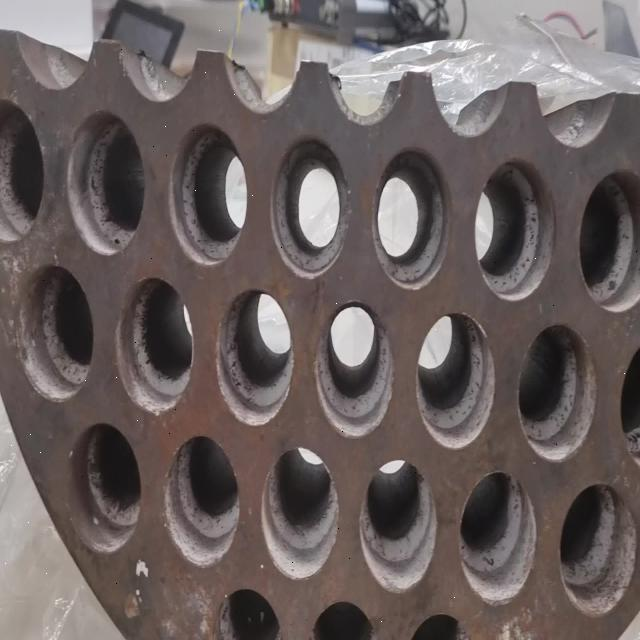Hole: (270, 134, 352, 280), (474, 158, 556, 302), (168, 121, 248, 267), (66, 111, 146, 257), (215, 287, 295, 427), (518, 322, 598, 462), (314, 299, 394, 439), (416, 311, 496, 450), (373, 146, 449, 290), (458, 468, 537, 606), (358, 458, 438, 594), (16, 263, 94, 402), (116, 275, 193, 415), (559, 482, 638, 618), (261, 444, 339, 580), (163, 434, 240, 568), (69, 421, 142, 554), (578, 170, 640, 314), (0, 100, 44, 243), (214, 584, 284, 640), (308, 599, 379, 639), (620, 338, 640, 470), (394, 612, 476, 640)
